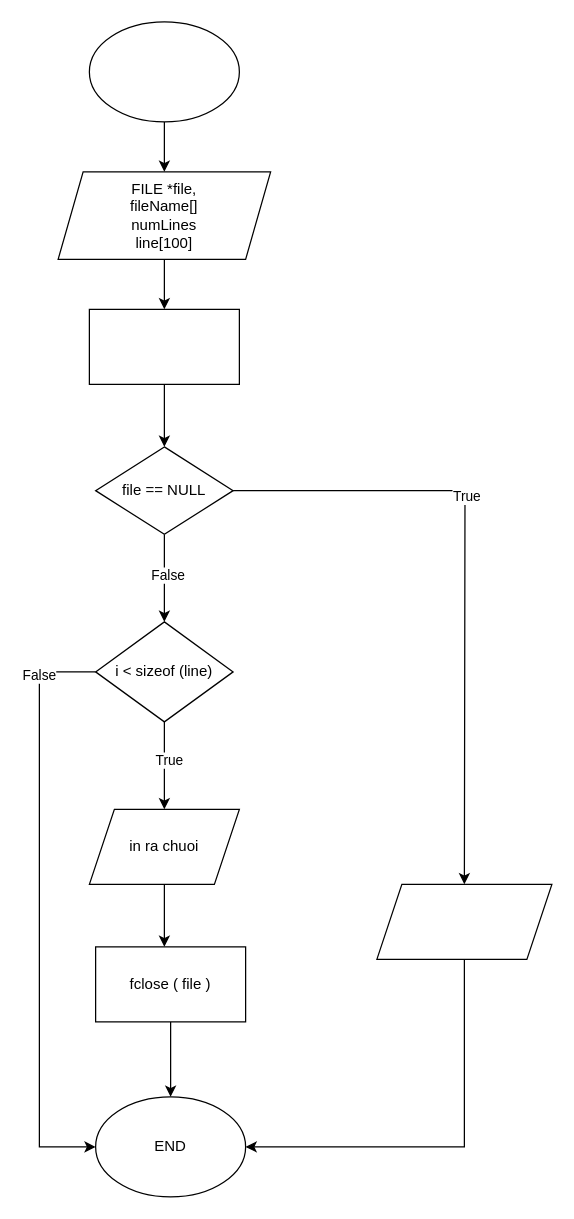
The diagram is 574 pixels wide and 1219 high, and some of its shapes have lost their labels. The centre of each missing label's shape, as x and y in pixels:
file = fopen (bt3.txt): (163,346)
Khong mo duoc file: (464,921)
Start: (163,71)
